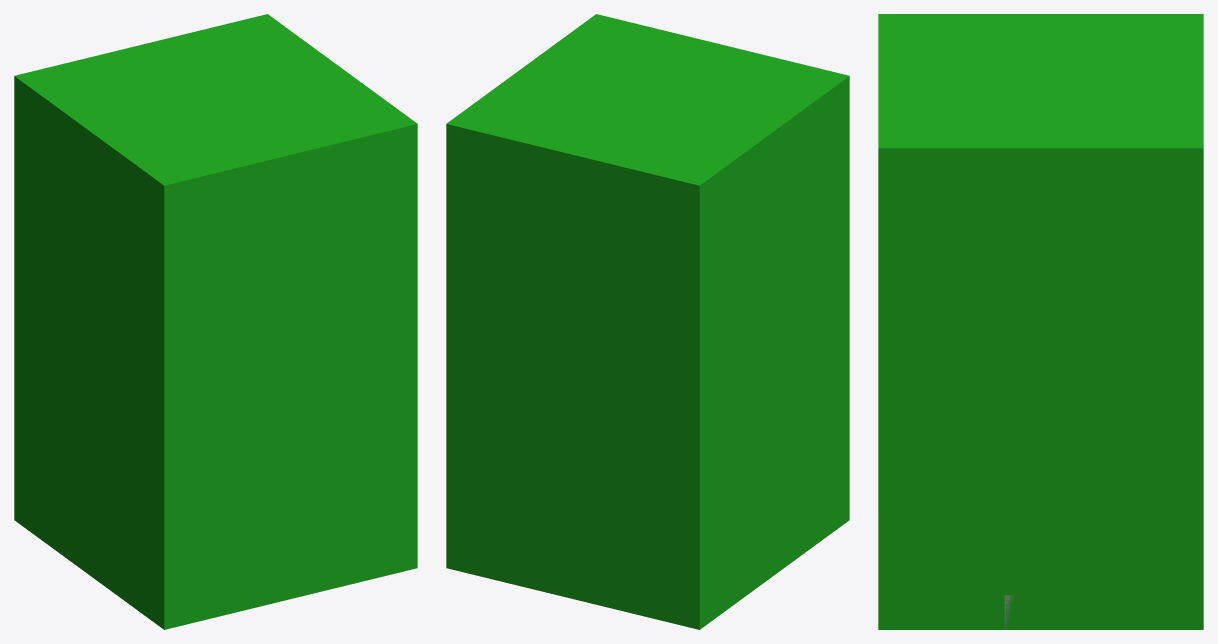
Rendered from light_fixture.DAE.
3 views of the same model, side by side, from view 1: azimuth 30°, elevation 25°; view 2: azimuth 150°, elevation 25°; view 3: azimuth 270°, elevation 25° (orthographic). The views are drawn at different scales.
Parts seen in each view (by area): view 1: bounds; view 2: bounds; view 3: bounds.
Part boxes in pixels (x1,y1,x2,y2): bounds: (14,14,417,629); bounds: (446,14,849,629); bounds: (878,14,1203,629).
Size of the model in its own units: 64.84 by 66.5 by 109.
